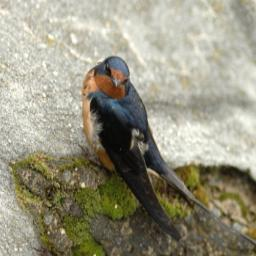Swallow: (51, 41, 256, 256)
